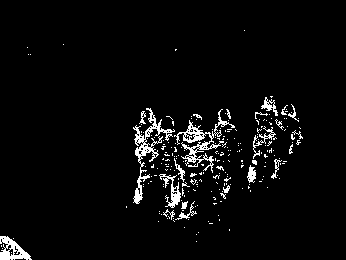person: (177, 114, 211, 218), (211, 109, 242, 208), (248, 94, 277, 186), (133, 108, 157, 204), (277, 103, 303, 184), (156, 116, 176, 220)
